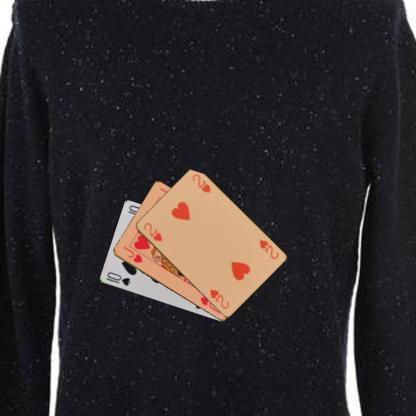10s: (103, 269, 132, 287)
2h: (257, 237, 280, 260), (141, 220, 163, 243)
Jh: (120, 243, 143, 264)
